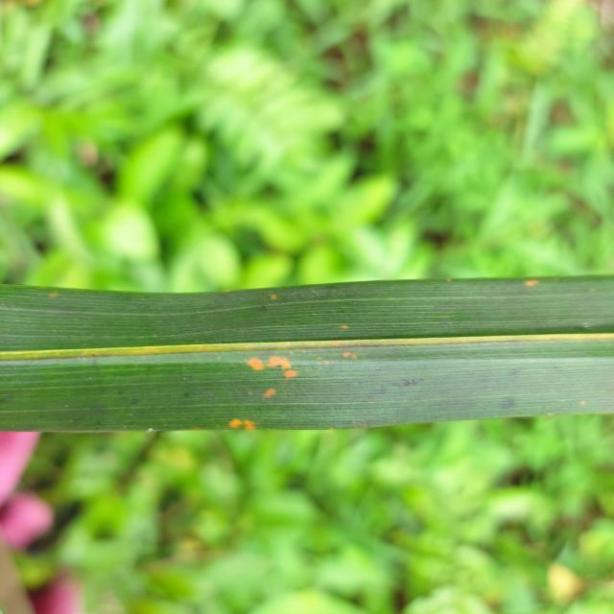Kalium: (0, 278, 614, 435)
